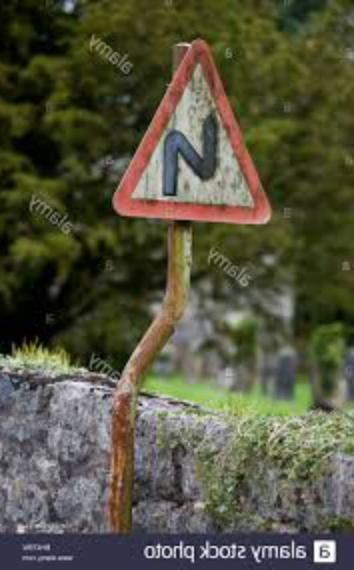double_bend_right: (108, 32, 273, 224)
